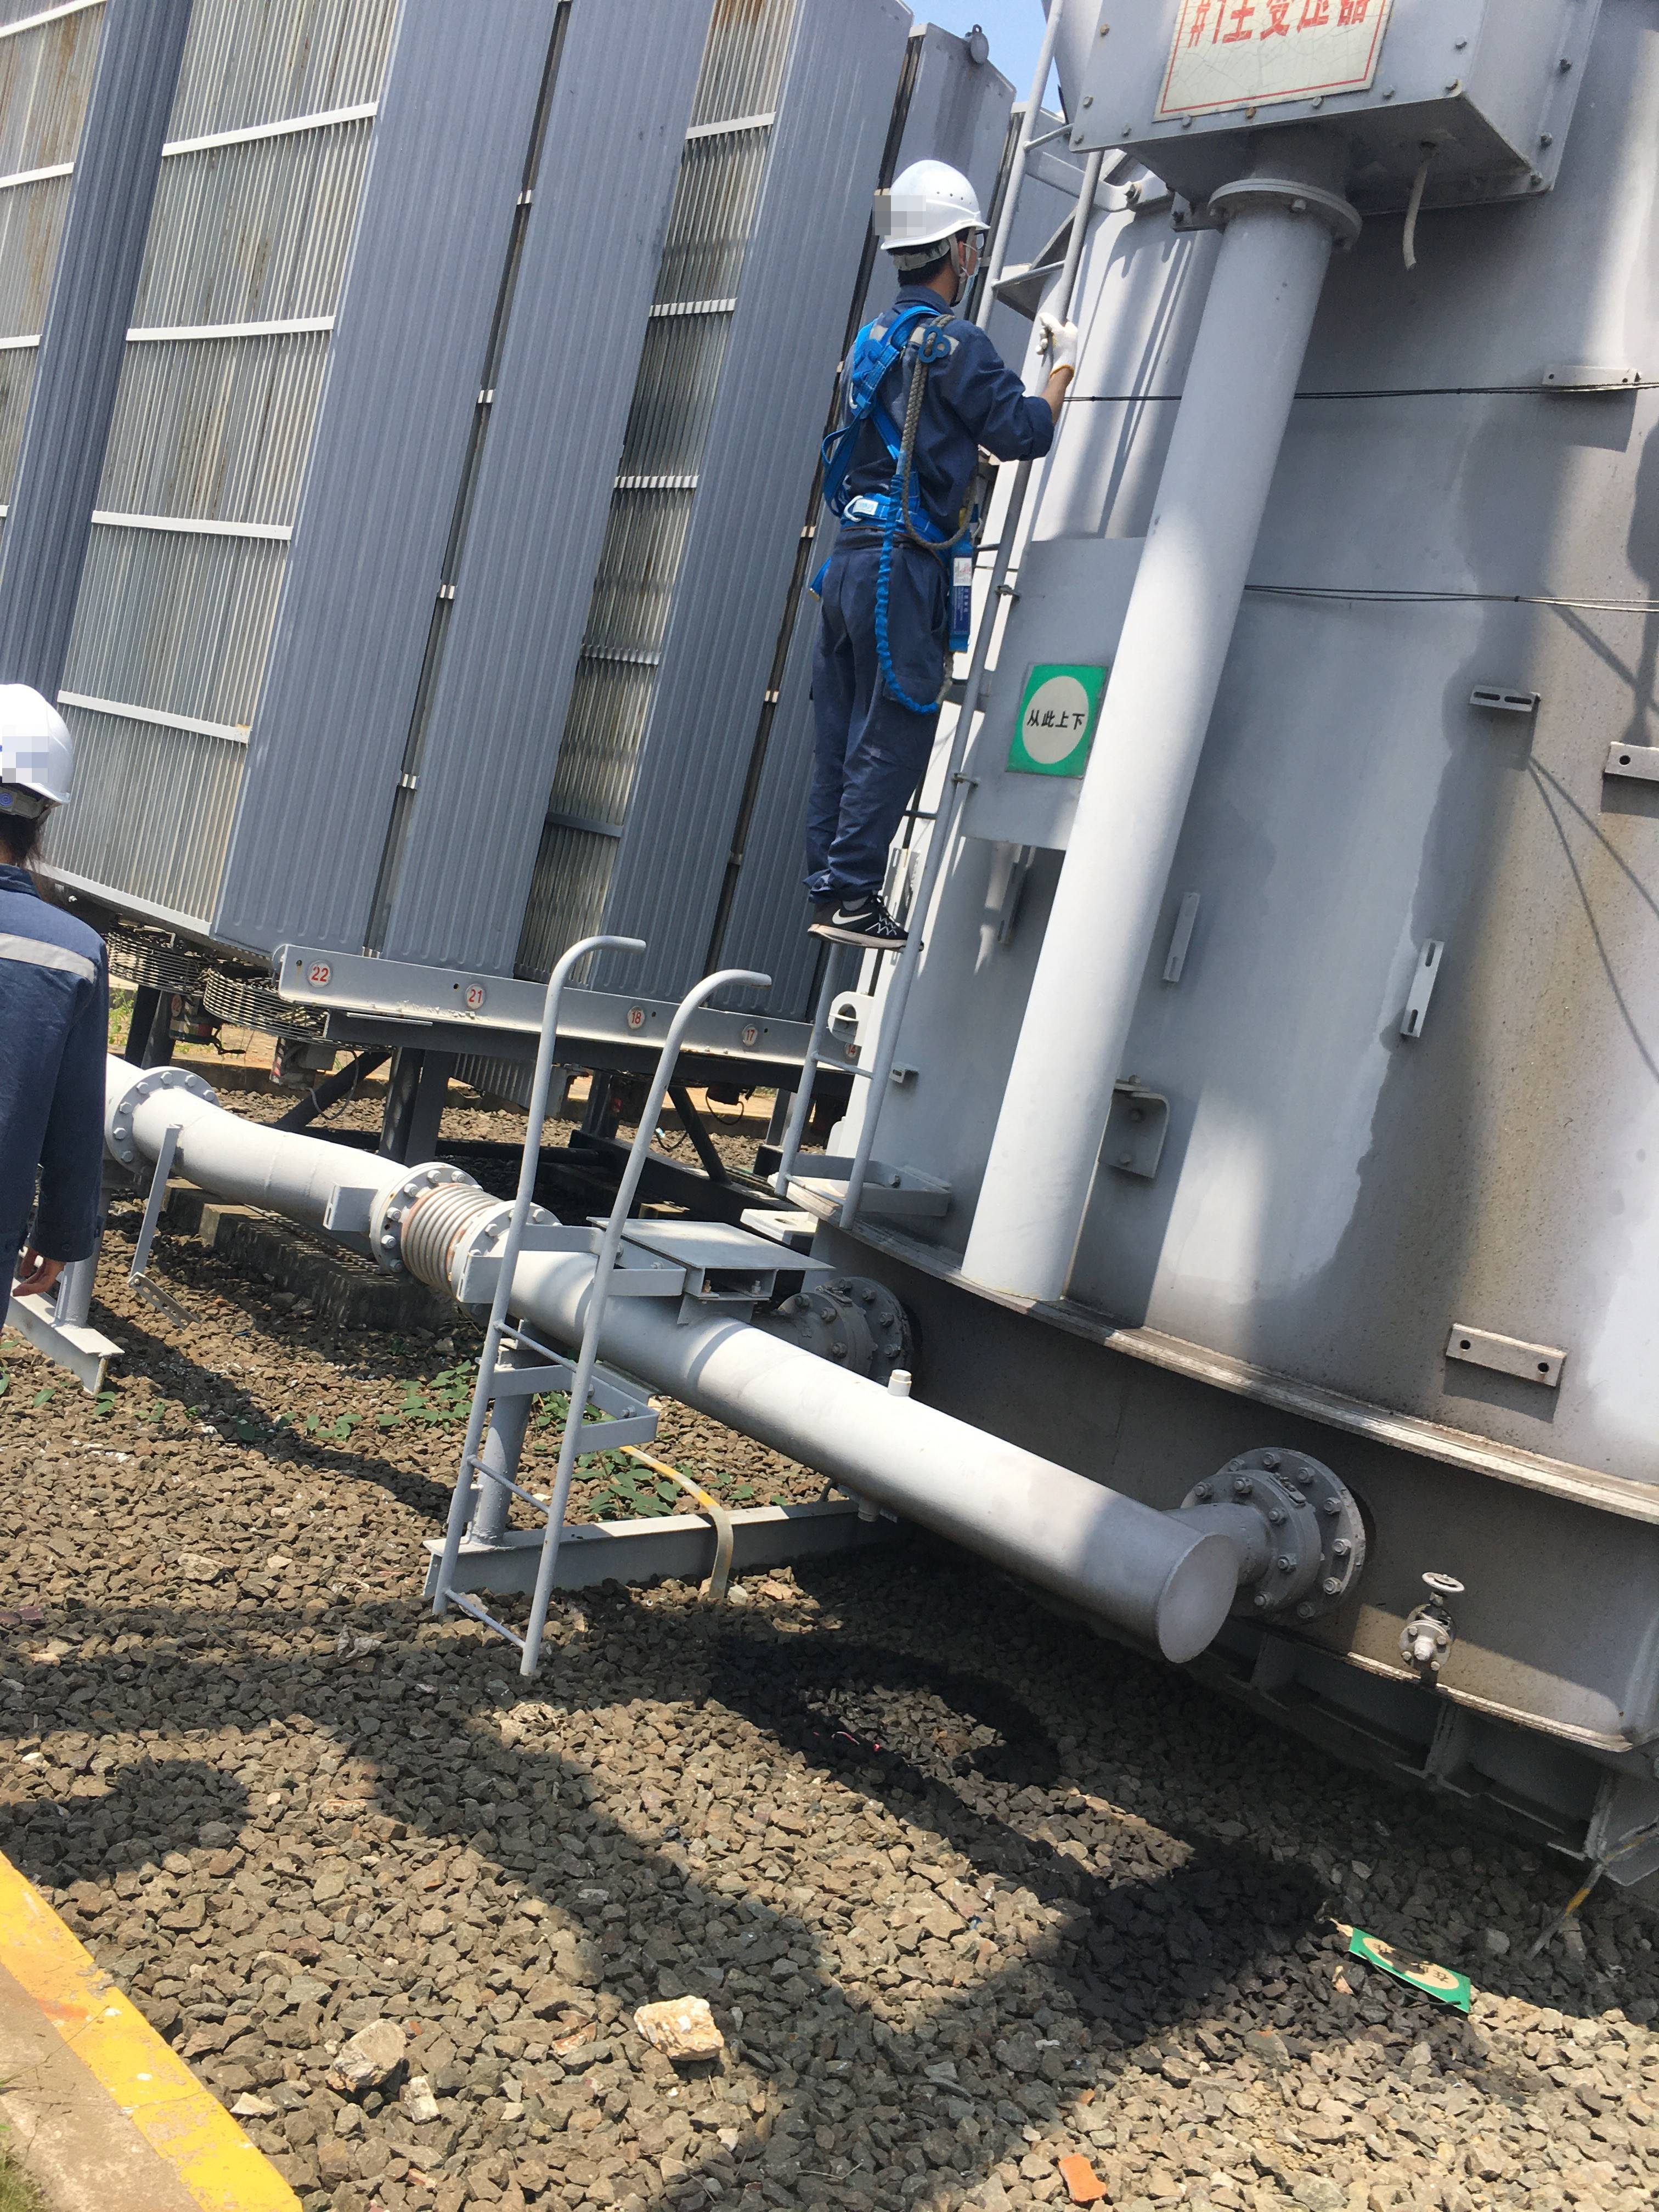downsuit: (767, 556, 967, 894)
upsuit: (840, 305, 1060, 519), (7, 892, 110, 1348)
wrongtop: (1025, 364, 1070, 453)
